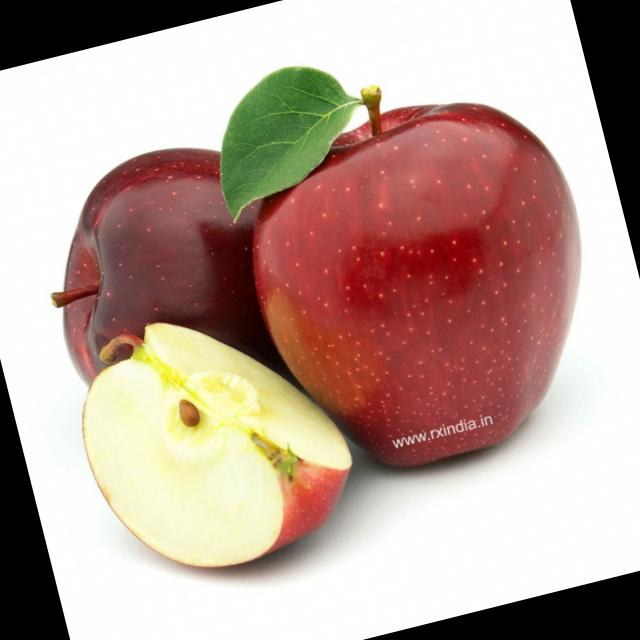apple: (208, 70, 640, 513), (6, 104, 396, 483)
